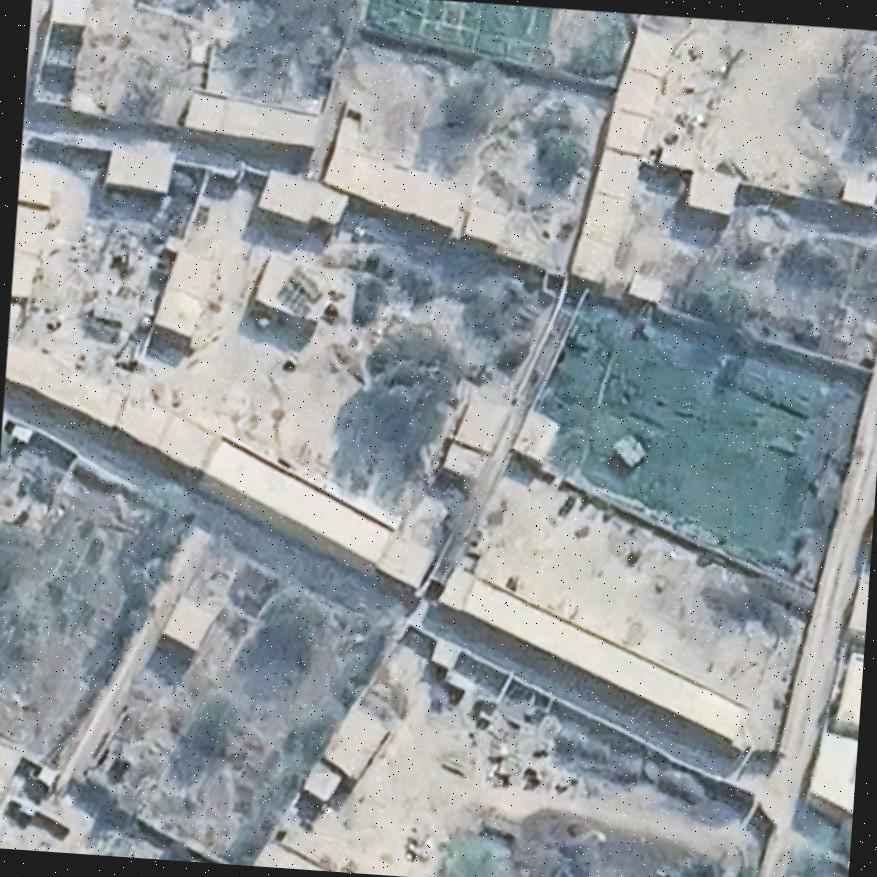Solarpanel: (282, 261, 327, 307)
